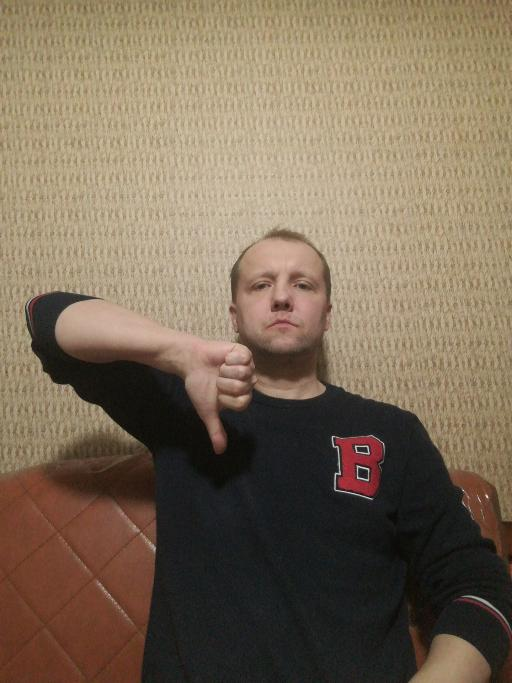dislike: (181, 333, 257, 457)
